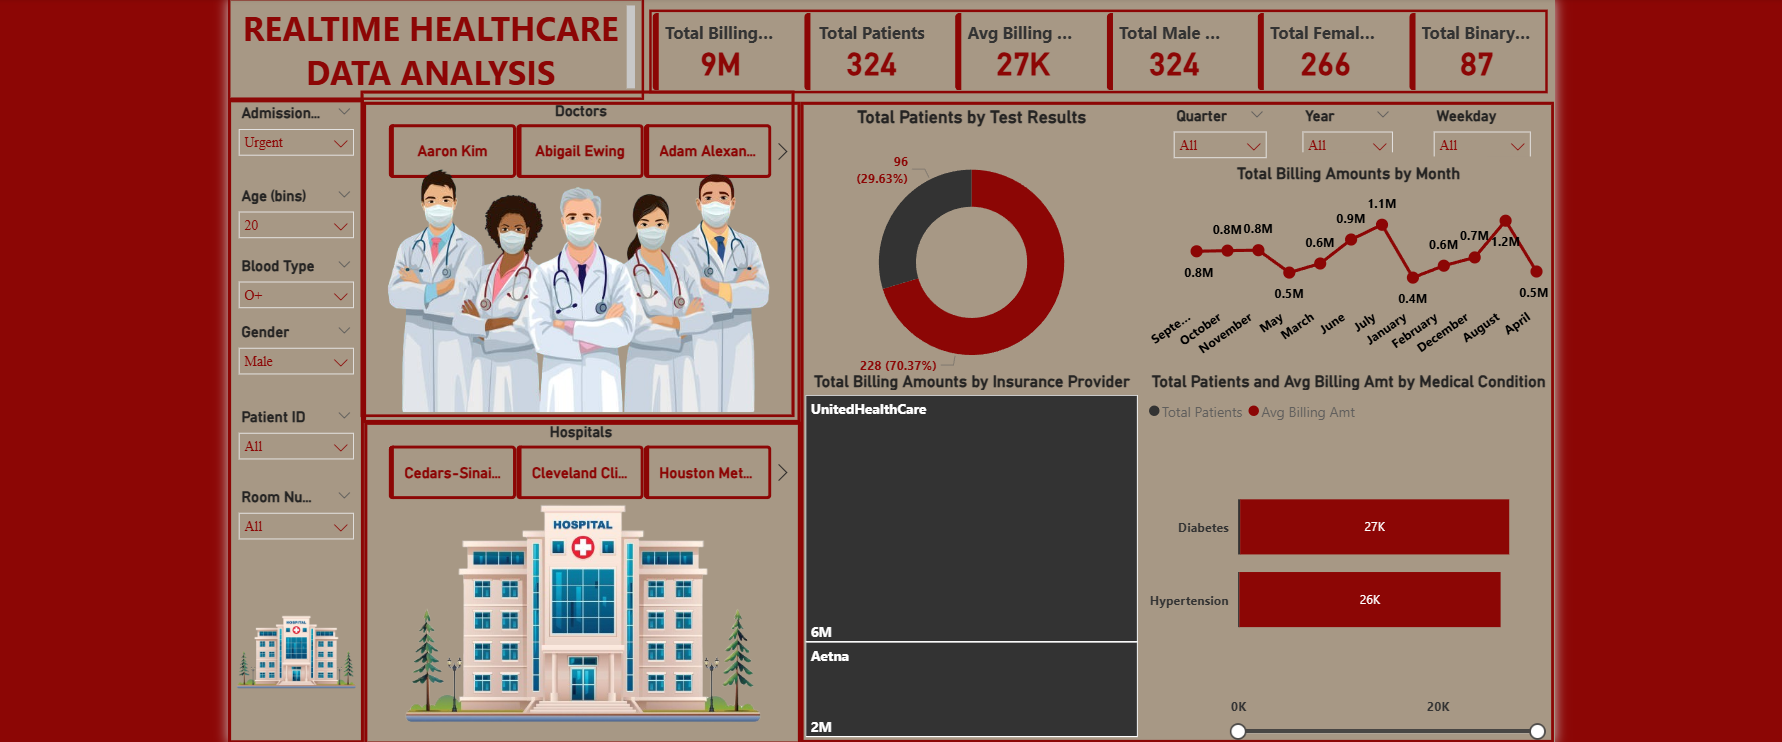

The page's visual inventory and layout, read from the dashboard file:
{"tool":"powerbi","page":{"name":"Main Page","canvas":[1280,720],"ordinal":0},"visuals":[{"type":"shape","box":[552.5,100.1,727.5,618.9],"z":0},{"type":"shape","box":[129.7,99.7,422.3,310],"z":1000},{"type":"shape","box":[0,98.1,131.3,621.7],"z":2000},{"type":"textbox","box":[0,0,401.5,98.2],"z":3000},{"type":"cardVisual","fields":{"Data":["MEASURE TABLE.Total Billing Amounts","MEASURE TABLE.Total Patients","MEASURE TABLE.Avg Billing Amt","MEASURE TABLE.Total Male Patients","MEASURE TABLE.Total Female Patients","MEASURE TABLE.Total Binary Patients"]},"box":[401.7,0,878.3,97.7],"z":4000},{"type":"slicer","fields":{"Values":["Data.Admission Type"]},"box":[0,98.1,131.3,77.5],"z":5000},{"type":"slicer","fields":{"Values":["Data.Age (bins)"]},"box":[0,177.2,131.3,77.5],"z":6000},{"type":"slicer","fields":{"Values":["Data.Blood Type"]},"box":[0,245.2,131.3,77.5],"z":7000},{"type":"slicer","fields":{"Values":["Data.Gender"]},"box":[0,308.5,131.3,77.5],"z":8000},{"type":"slicer","fields":{"Values":["Data.Room Number"]},"box":[0,468.2,131.3,77.5],"z":9000},{"type":"slicer","fields":{"Values":["Data.Patient ID"]},"box":[0,390.7,131.3,77.5],"z":10000},{"type":"shape","box":[131.9,408.6,421.5,311.6],"z":11000},{"type":"advancedSlicerVisual","title":"Doctors","fields":{"Values":["Data.Doctor"]},"box":[129.7,99.7,420.8,79.1],"z":12000},{"type":"advancedSlicerVisual","title":"Hospitals","fields":{"Values":["Data.Hospital"]},"box":[129.7,409.7,420.8,79.1],"z":13000},{"type":"donutChart","fields":{"Category":["Data.Test Results"],"Y":["MEASURE TABLE.Total Patients"]},"box":[552.1,104.4,330.6,281.6],"z":14000},{"type":"treemap","fields":{"Group":["Data.Insurance Provider"],"Values":["MEASURE TABLE.Total Billing Amounts"]},"box":[552.1,360.7,330.6,357.5],"z":15000},{"type":"barChart","fields":{"Category":["Data.Medical Condition"],"Y":["MEASURE TABLE.Total Patients","MEASURE TABLE.Avg Billing Amt"]},"box":[882.7,360.7,397,357.5],"z":16000},{"type":"lineChart","fields":{"Category":["Calender Admission_Date Table.Month"],"Y":["MEASURE TABLE.Total Billing Amounts"]},"box":[883.1,160.3,396.9,200.4],"z":17000},{"type":"slicer","fields":{"Values":["Calender Admission_Date Table.Year"]},"box":[1026.6,99.6,107.3,49.1],"z":18000},{"type":"slicer","fields":{"Values":["Calender Admission_Date Table.Quarter"]},"box":[902.5,99.6,109.9,55.6],"z":19000},{"type":"slicer","fields":{"Values":["Calender Admission_Date Table.Weekday"]},"box":[1153.3,99.6,113.8,53],"z":20000},{"type":"image","box":[133.2,468,420.2,252.1],"z":21000},{"type":"image","box":[0,545.6,131.9,172],"z":22000},{"type":"shape","box":[128.2,89.6,419,315.6],"z":23000},{"type":"image","box":[128,148.7,418.9,250.8],"z":24000}]}

Visuals, with their boxes in screenshot pixels (x1, y1, x2, y2):
shape: [789,102,1529,731]
shape: [359,101,789,417]
shape: [227,100,361,732]
textbox: [227,0,636,100]
cardVisual - MEASURE TABLE.Total Billing Amounts x MEASURE TABLE.Total Patients: [636,0,1529,99]
slicer - Data.Admission Type: [227,100,361,179]
slicer - Data.Age (bins): [227,180,361,259]
slicer - Data.Blood Type: [227,249,361,328]
slicer - Data.Gender: [227,314,361,393]
slicer - Data.Room Number: [227,476,361,555]
slicer - Data.Patient ID: [227,397,361,476]
shape: [362,416,790,732]
"Doctors" advancedSlicerVisual: [359,101,787,182]
"Hospitals" advancedSlicerVisual: [359,417,787,497]
donutChart - Data.Test Results x MEASURE TABLE.Total Patients: [789,106,1125,393]
treemap - Data.Insurance Provider x MEASURE TABLE.Total Billing Amounts: [789,367,1125,730]
barChart - Data.Medical Condition x MEASURE TABLE.Total Patients: [1125,367,1529,730]
lineChart - Calender Admission_Date Table.Month x MEASURE TABLE.Total Billing Amounts: [1125,163,1529,367]
slicer - Calender Admission_Date Table.Year: [1271,101,1381,151]
slicer - Calender Admission_Date Table.Quarter: [1145,101,1257,158]
slicer - Calender Admission_Date Table.Weekday: [1400,101,1516,155]
image: [363,476,790,732]
image: [227,555,362,730]
shape: [358,91,784,412]
image: [358,151,784,406]
